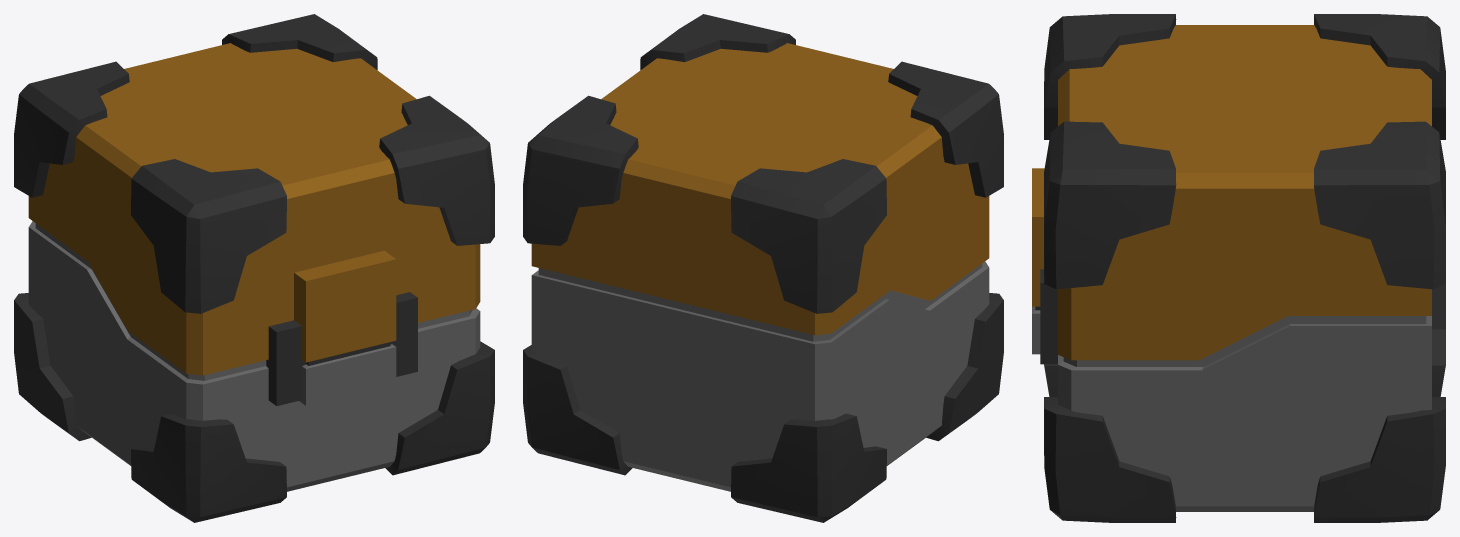
Rendered from crate.glb.
The picture shows the model from 3 angles, left to right: view 1: azimuth 30°, elevation 25°; view 2: azimuth 150°, elevation 25°; view 3: azimuth 270°, elevation 25°; orthographic projection. The views are drawn at different scales.
Parts seen in each view (by area): view 1: Pickup_Crate; view 2: Pickup_Crate; view 3: Pickup_Crate.
Boxes of the visible parts, <box> form: Pickup_Crate: <box>14,14,494,522</box>; Pickup_Crate: <box>523,14,1003,522</box>; Pickup_Crate: <box>1032,14,1445,522</box>.
Size of the model in its own units: 0.8729 by 0.8576 by 0.899.
